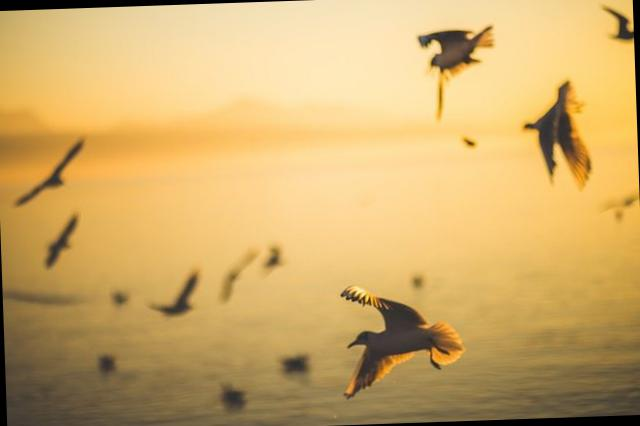bird: (324, 270, 481, 406), (518, 69, 604, 201), (405, 17, 510, 124)
